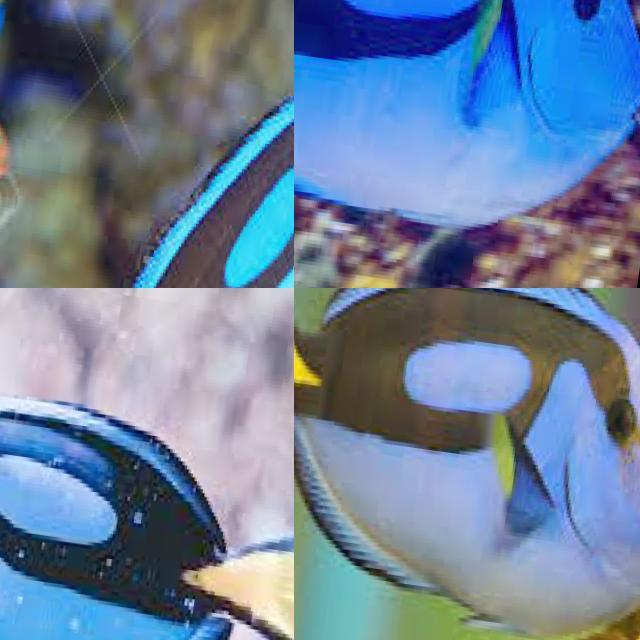BlueTang: (294, 288, 640, 640), (294, 0, 640, 286), (0, 343, 294, 640), (0, 0, 294, 288)
